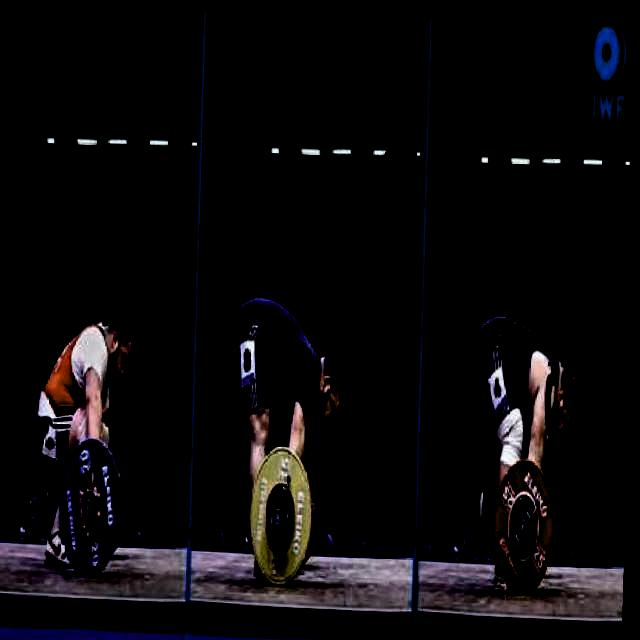barbell: (247, 435, 322, 592), (490, 450, 560, 597), (59, 435, 128, 580)
